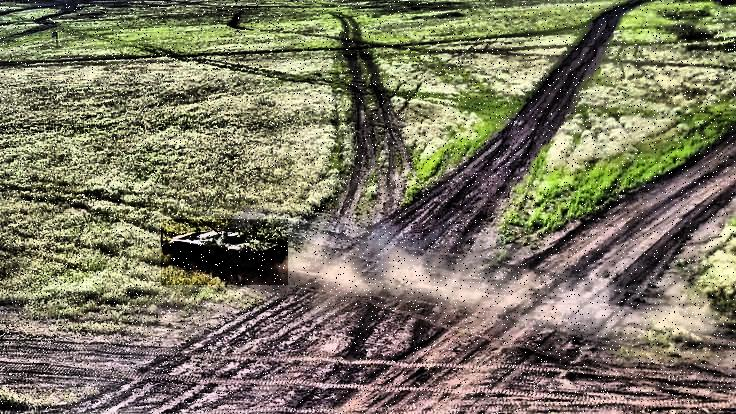military-vehicle: (161, 219, 288, 285)
